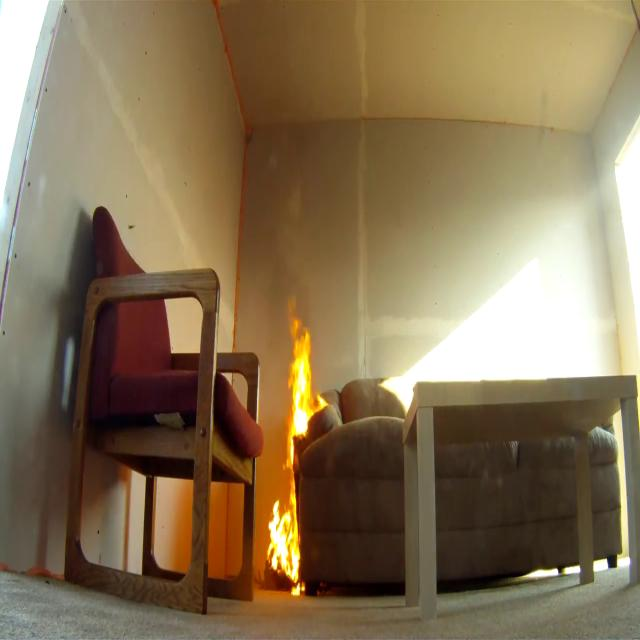fire: (282, 311, 328, 473), (266, 479, 306, 601)
